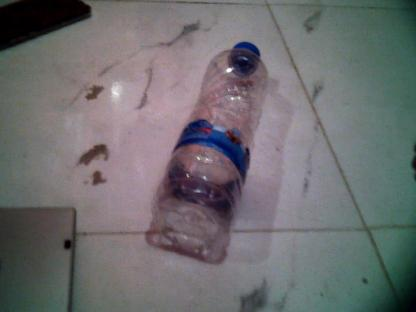Plastic Bottle: (147, 42, 269, 260)
